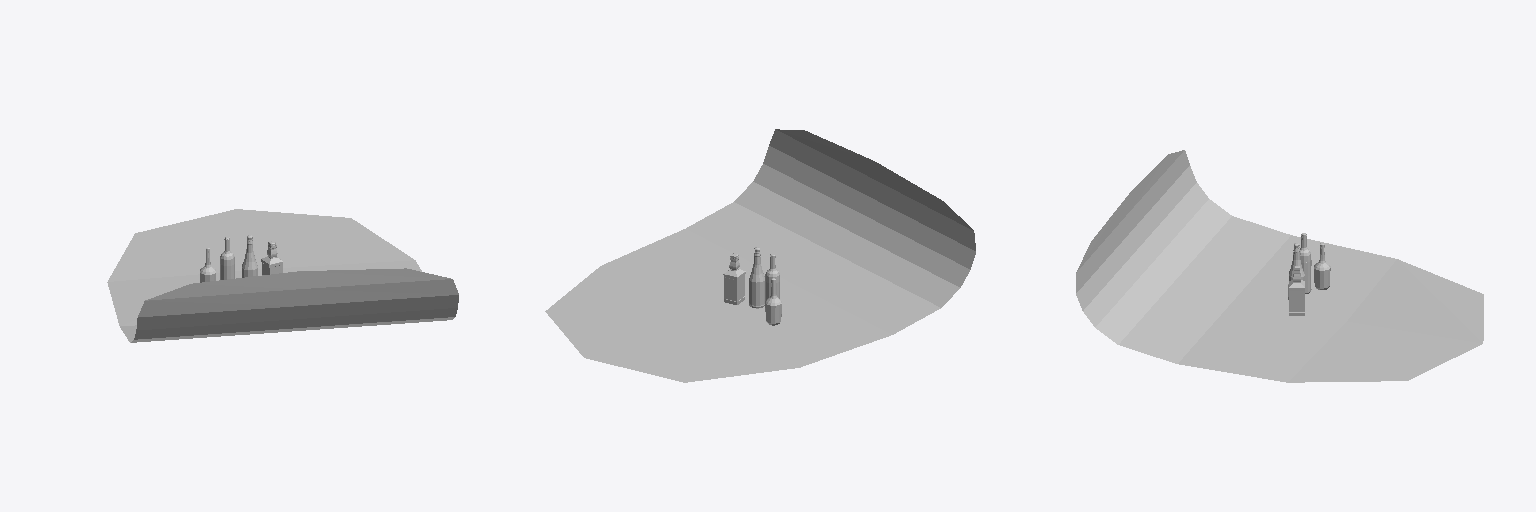
3 renders of one model, left to right at view 1: azimuth 30°, elevation 25°; view 2: azimuth 150°, elevation 25°; view 3: azimuth 270°, elevation 25°, orthographic.
Visible parts, largest first — view 1: Plane.001_Plane; view 2: Plane.001_Plane, JackDaniel's_Cube.001, Champagne_Cylinder; view 3: Plane.001_Plane, JackDaniel's_Cube.001.
Part boxes in pixels (bbox=[...]): Plane.001_Plane: bbox=[107, 209, 458, 342]; Plane.001_Plane: bbox=[545, 129, 975, 382]; JackDaniel's_Cube.001: bbox=[723, 253, 745, 304]; Champagne_Cylinder: bbox=[749, 247, 764, 308]; Plane.001_Plane: bbox=[1076, 150, 1483, 382]; JackDaniel's_Cube.001: bbox=[1289, 266, 1304, 315].
Size of the model in its own units: 2.31 by 0.6432 by 2.51.